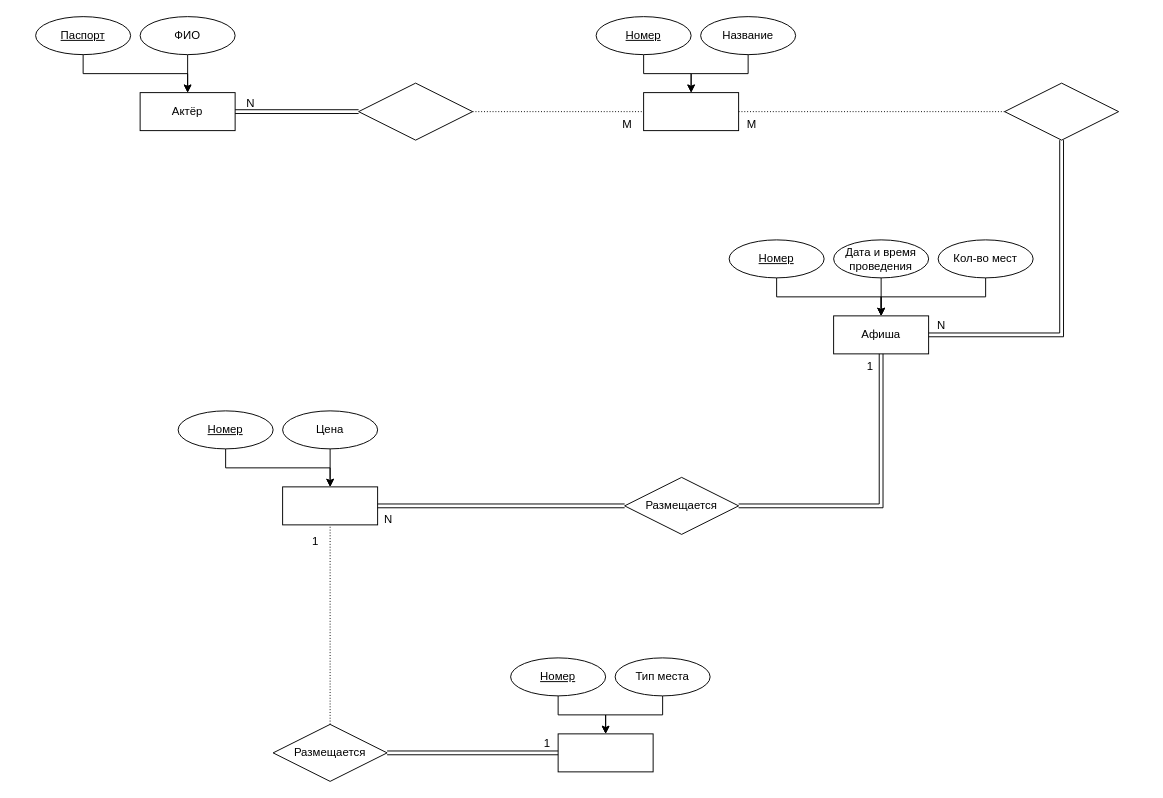
Some shapes in this 1163 by 798 pixel diagram are drawn without their labels. Each missing label, with the box of its shape:
Билет: (282, 486, 378, 525)
Играет: (358, 82, 473, 140)
Место: (557, 733, 653, 772)
Проходит: (1004, 82, 1119, 140)
Спектакль: (643, 92, 739, 131)
